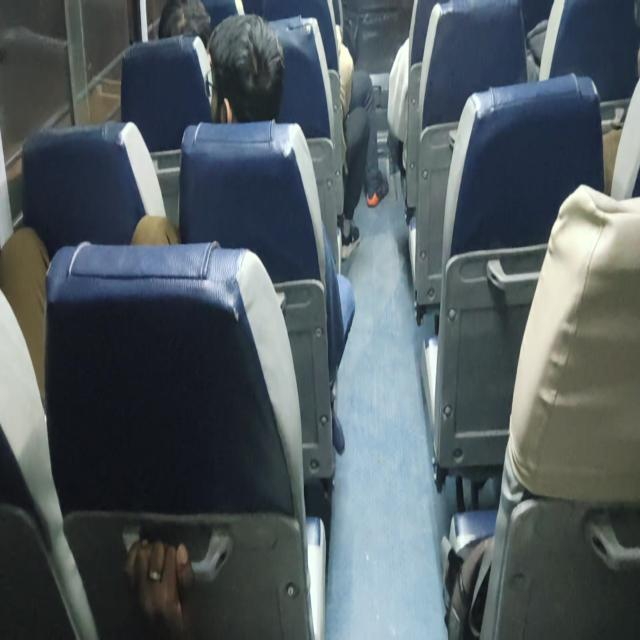person: (213, 17, 284, 124), (155, 0, 214, 44)
